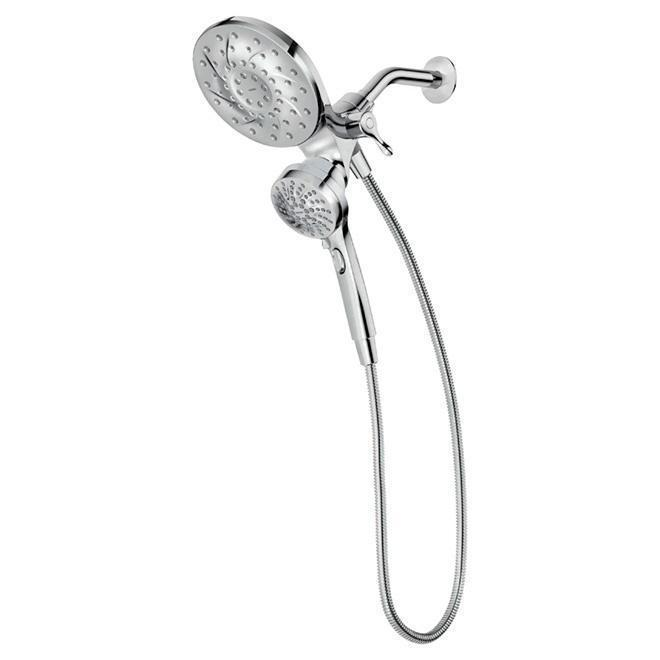Ducha: (178, 0, 528, 659)
